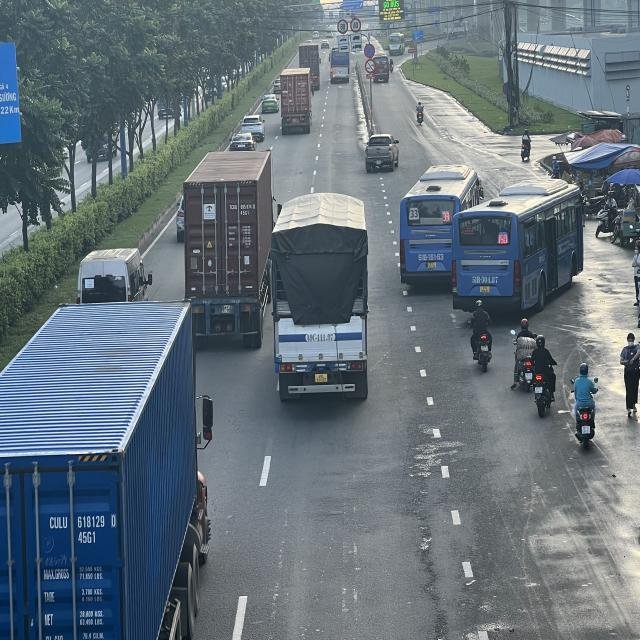car: (364, 132, 401, 170), (240, 113, 265, 139)
coach: (451, 175, 581, 319), (400, 166, 484, 289), (329, 49, 350, 80), (374, 53, 389, 82), (389, 33, 406, 56)
container: (0, 298, 207, 637), (177, 146, 271, 345), (279, 70, 312, 135), (298, 44, 320, 88)
truck: (265, 193, 367, 409)
van: (76, 244, 154, 315)
